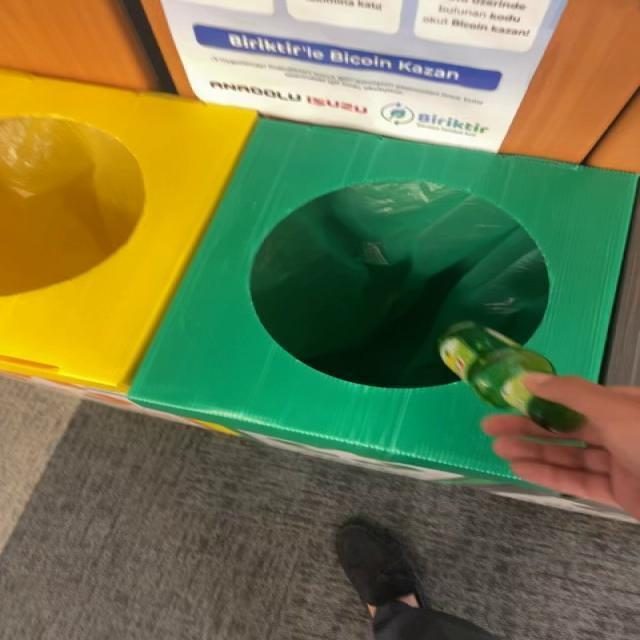Glass: (440, 322, 585, 432)
